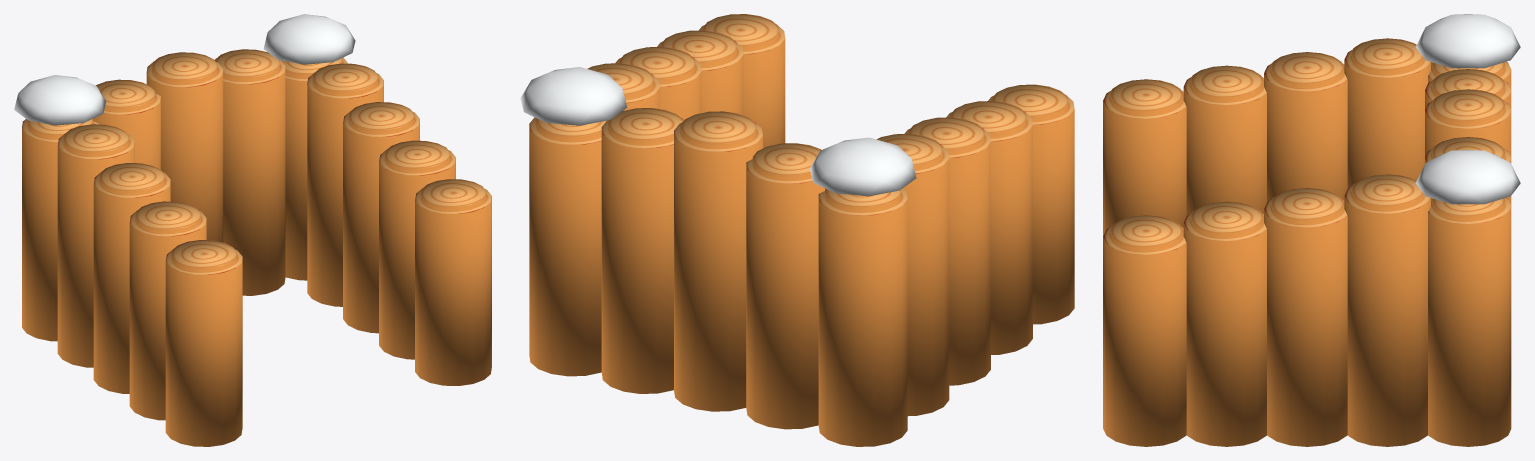
File: LogWall_U.glb
The picture shows the model from 3 angles, left to right: view 1: azimuth 30°, elevation 25°; view 2: azimuth 150°, elevation 25°; view 3: azimuth 270°, elevation 25°; orthographic projection. The views are drawn at different scales.
Parts seen in each view (by area): view 1: LogWall_U, LogWall_U_Snow2, LogWall_U_Snow1; view 2: LogWall_U, LogWall_U_Snow2, LogWall_U_Snow1; view 3: LogWall_U, LogWall_U_Snow1, LogWall_U_Snow2.
Boxes of the visible parts, <box> form: LogWall_U: <box>22,49,491,446</box>; LogWall_U_Snow2: <box>263,14,355,64</box>; LogWall_U_Snow1: <box>14,75,106,125</box>; LogWall_U: <box>529,14,1074,446</box>; LogWall_U_Snow2: <box>520,67,627,125</box>; LogWall_U_Snow1: <box>809,137,916,196</box>; LogWall_U: <box>1103,38,1511,446</box>; LogWall_U_Snow1: <box>1415,14,1520,68</box>; LogWall_U_Snow2: <box>1415,150,1520,204</box>.
Size of the model in its own units: 1.12 by 0.8 by 1.11.
Materials: 3 (1 with a texture image).
